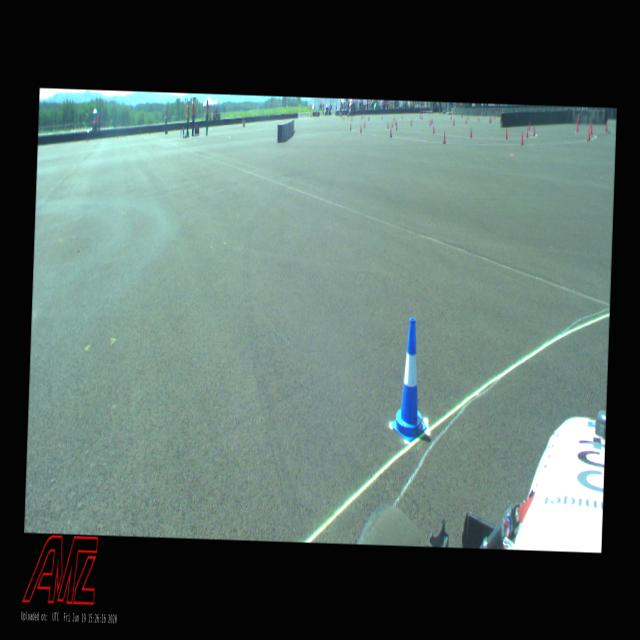blue_cone: (390, 316, 430, 441)
unknown_cone: (586, 126, 590, 140), (504, 126, 508, 140), (442, 130, 446, 142), (525, 125, 528, 138), (520, 132, 523, 144), (469, 126, 472, 138), (389, 126, 392, 138), (532, 125, 535, 136), (359, 124, 362, 133), (576, 120, 578, 132), (349, 122, 352, 130), (590, 124, 592, 134), (432, 124, 434, 134), (396, 121, 398, 130), (364, 120, 366, 128)
